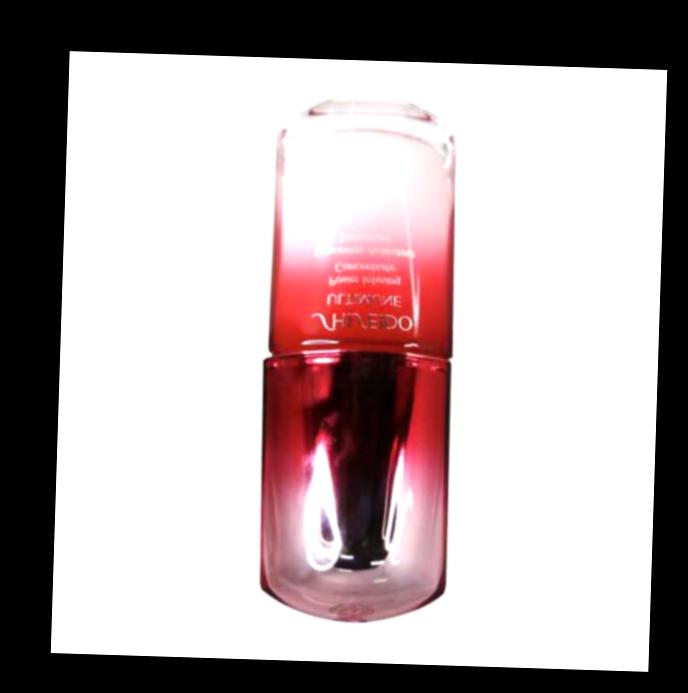cosmetic: (253, 97, 465, 629)
